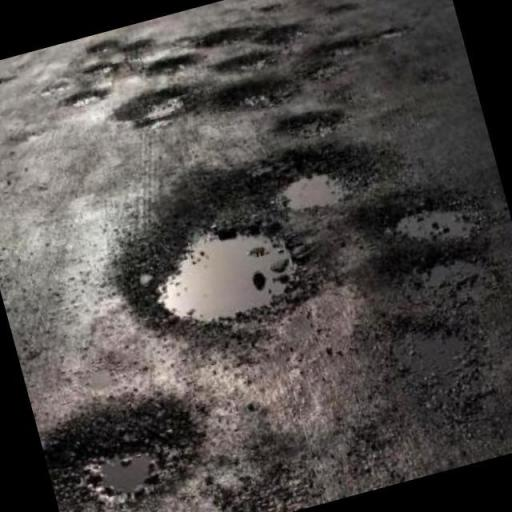pothole: (42, 393, 203, 512), (156, 233, 296, 324), (389, 197, 491, 248), (112, 87, 194, 131), (210, 76, 304, 112), (280, 175, 354, 212), (276, 109, 346, 144)
